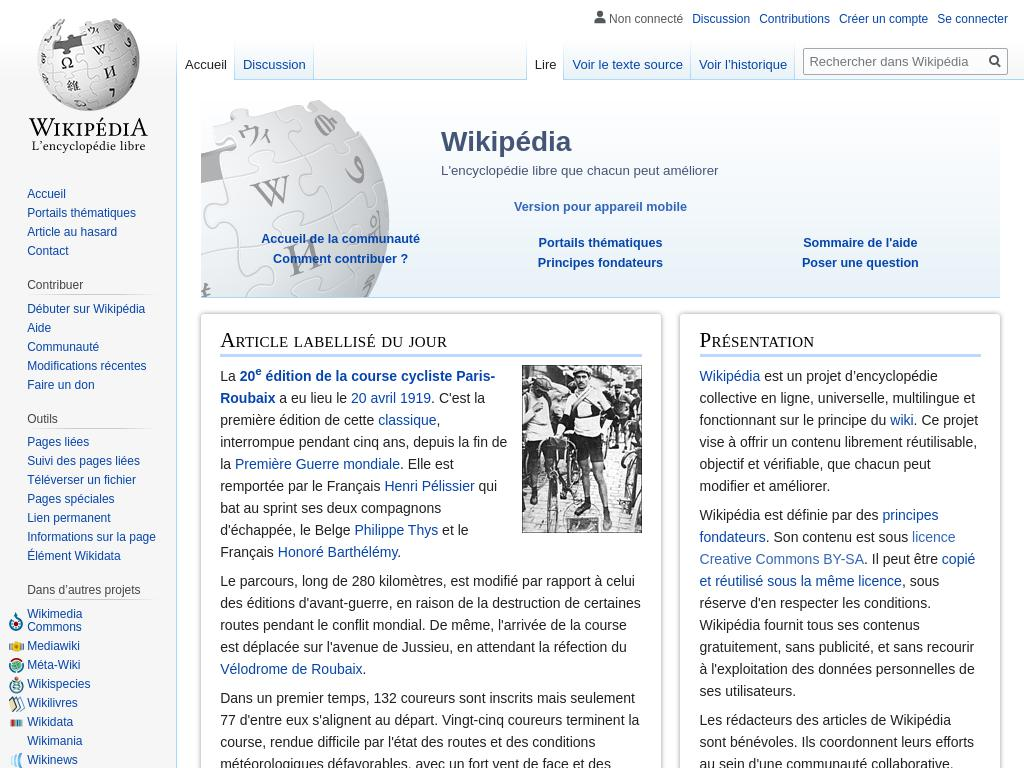button: (564, 40, 692, 80), (691, 40, 796, 80), (234, 40, 314, 80), (177, 40, 235, 80), (526, 40, 565, 80)
field: (803, 48, 1009, 76), (983, 49, 1007, 75)
heading: (201, 0, 527, 768), (0, 12, 210, 768), (220, 327, 448, 352), (441, 126, 571, 157), (699, 327, 814, 352), (27, 277, 159, 292), (27, 411, 159, 426), (27, 583, 159, 598)
image: (0, 0, 1024, 80), (8, 0, 168, 160), (522, 364, 643, 533)
link: (699, 550, 976, 589), (699, 506, 939, 545), (234, 455, 400, 472), (220, 660, 364, 677), (514, 200, 688, 214), (261, 232, 421, 247), (273, 252, 409, 267), (277, 543, 397, 560), (27, 530, 157, 545), (27, 358, 148, 373), (27, 301, 146, 316), (537, 256, 663, 270), (538, 236, 662, 250), (27, 454, 141, 469), (801, 256, 919, 270), (27, 205, 137, 220), (27, 473, 137, 488), (803, 236, 918, 250), (27, 607, 83, 635), (384, 477, 476, 494), (354, 521, 439, 538), (27, 549, 122, 564), (27, 224, 118, 239), (27, 492, 116, 507), (27, 511, 112, 526), (838, 12, 928, 26), (27, 339, 100, 354), (699, 367, 760, 384), (27, 377, 96, 392), (378, 411, 438, 428), (759, 12, 831, 26), (937, 12, 1009, 26), (27, 677, 91, 692), (27, 435, 90, 450), (27, 734, 83, 749), (692, 12, 751, 26), (27, 639, 81, 654), (27, 658, 81, 673), (350, 389, 396, 406), (27, 696, 79, 711), (27, 753, 79, 768), (27, 715, 74, 730), (27, 243, 70, 258), (27, 186, 67, 201), (399, 389, 431, 406), (890, 411, 915, 428), (27, 320, 52, 335), (255, 364, 263, 378)
text: (699, 572, 975, 699), (220, 572, 642, 655), (220, 689, 640, 768), (699, 411, 978, 494), (220, 411, 508, 472), (220, 477, 498, 538), (699, 708, 981, 768), (699, 367, 976, 428), (220, 367, 496, 406), (220, 389, 486, 428), (220, 521, 470, 560), (220, 455, 454, 494), (441, 160, 719, 181), (699, 506, 882, 523), (699, 550, 864, 567), (765, 528, 912, 545), (593, 6, 684, 26), (864, 550, 943, 567), (275, 389, 352, 406), (912, 528, 957, 545), (220, 367, 241, 384), (239, 367, 255, 384), (397, 543, 402, 560), (362, 660, 367, 677)
